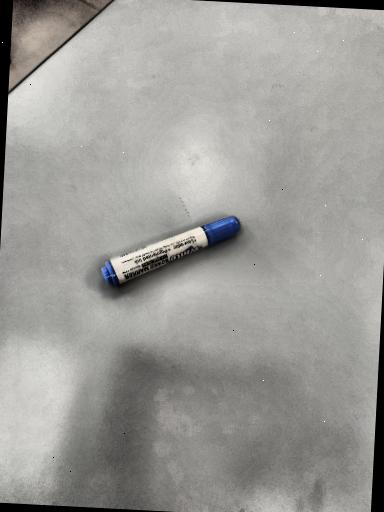marcador azul: (105, 216, 240, 285)
